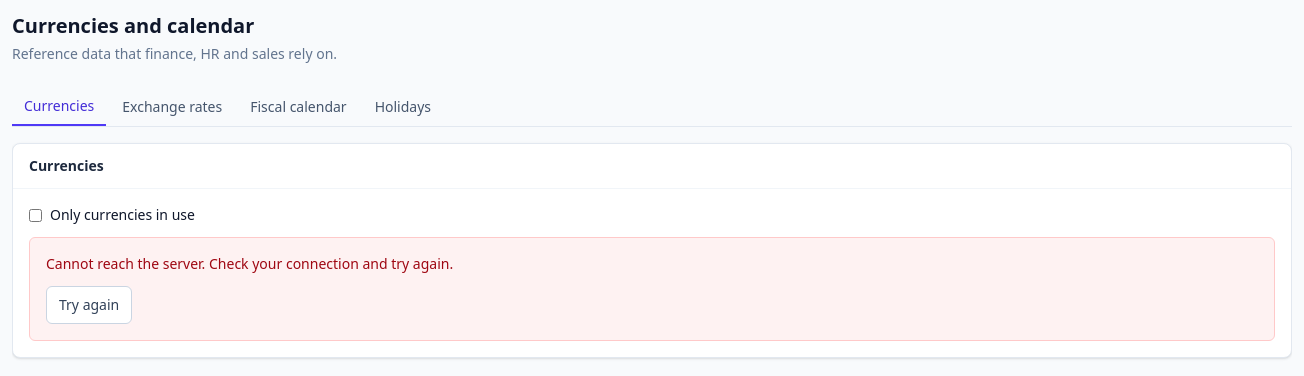
Test: Currencies and calendar › only offers closing to people with the close permission
Click the tab "Fiscal calendar".
click(298, 107)  # box x1=238 y1=88 x2=359 y2=126
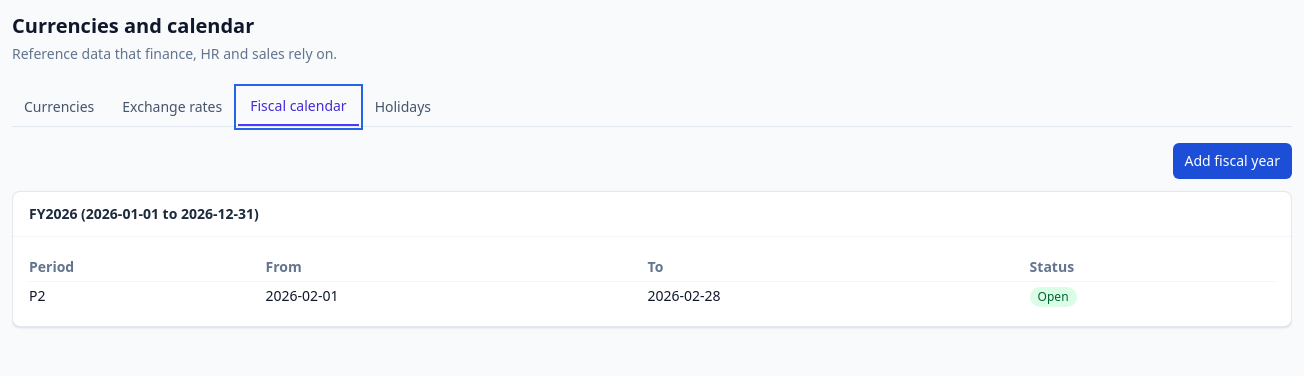
Check: the text "P2" is shown, box x1=29 y1=282 x2=266 y2=310
